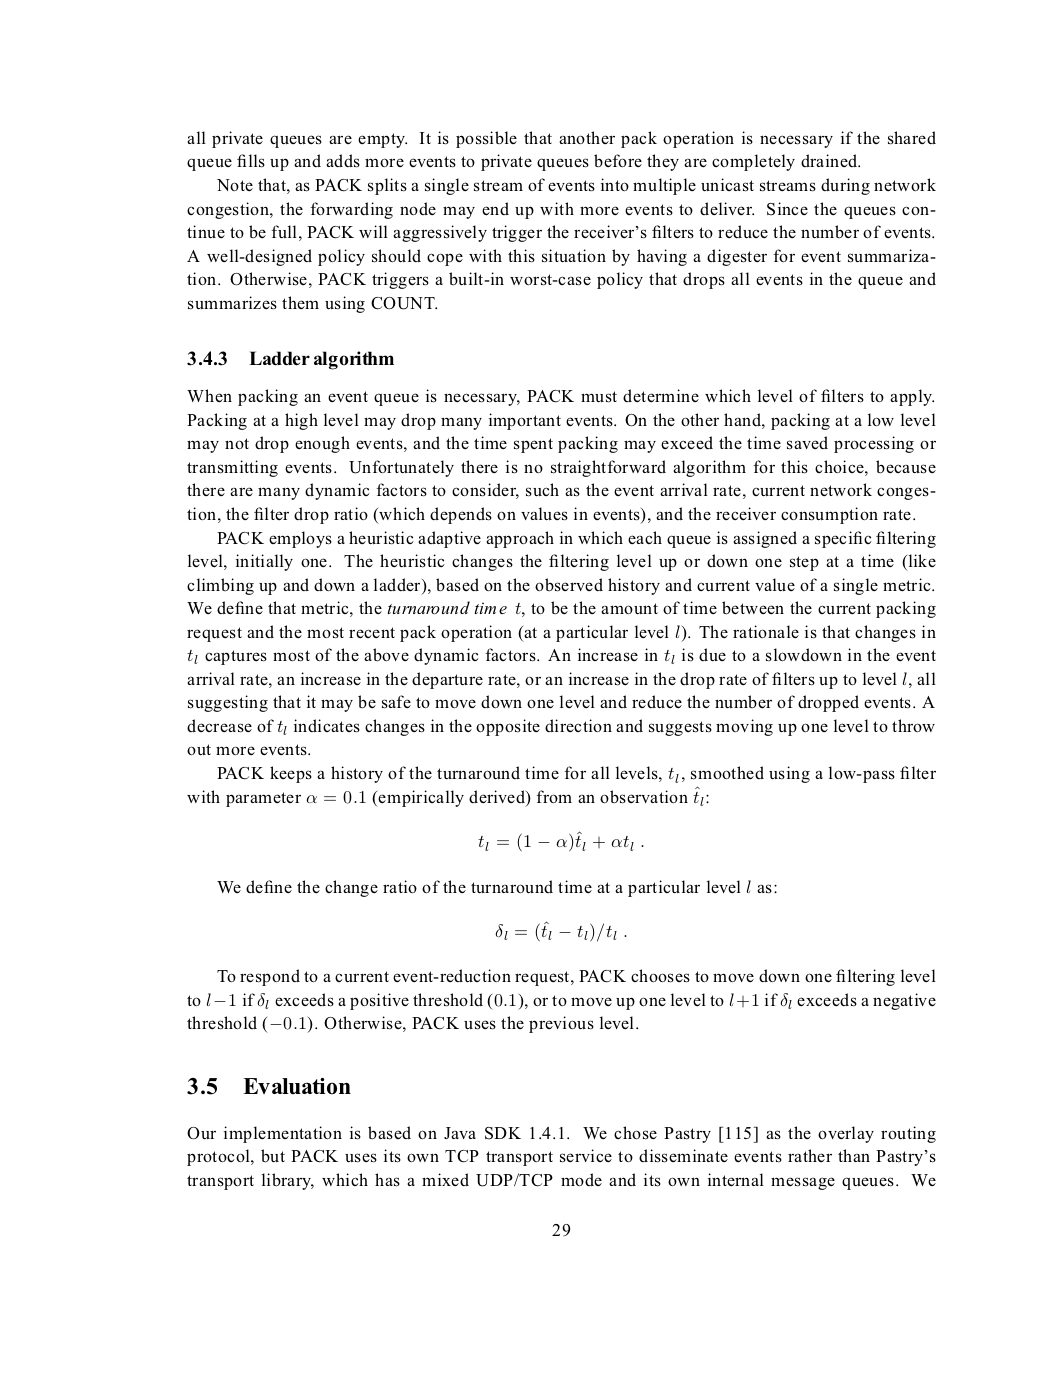formula: (478, 830, 643, 853), (495, 921, 626, 942)
